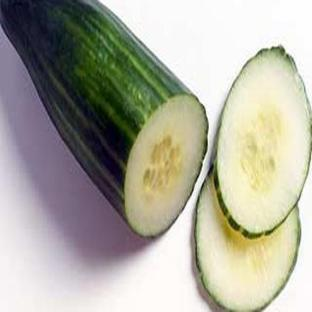Cucumber: (0, 0, 207, 236), (215, 47, 311, 237), (195, 177, 300, 311)
